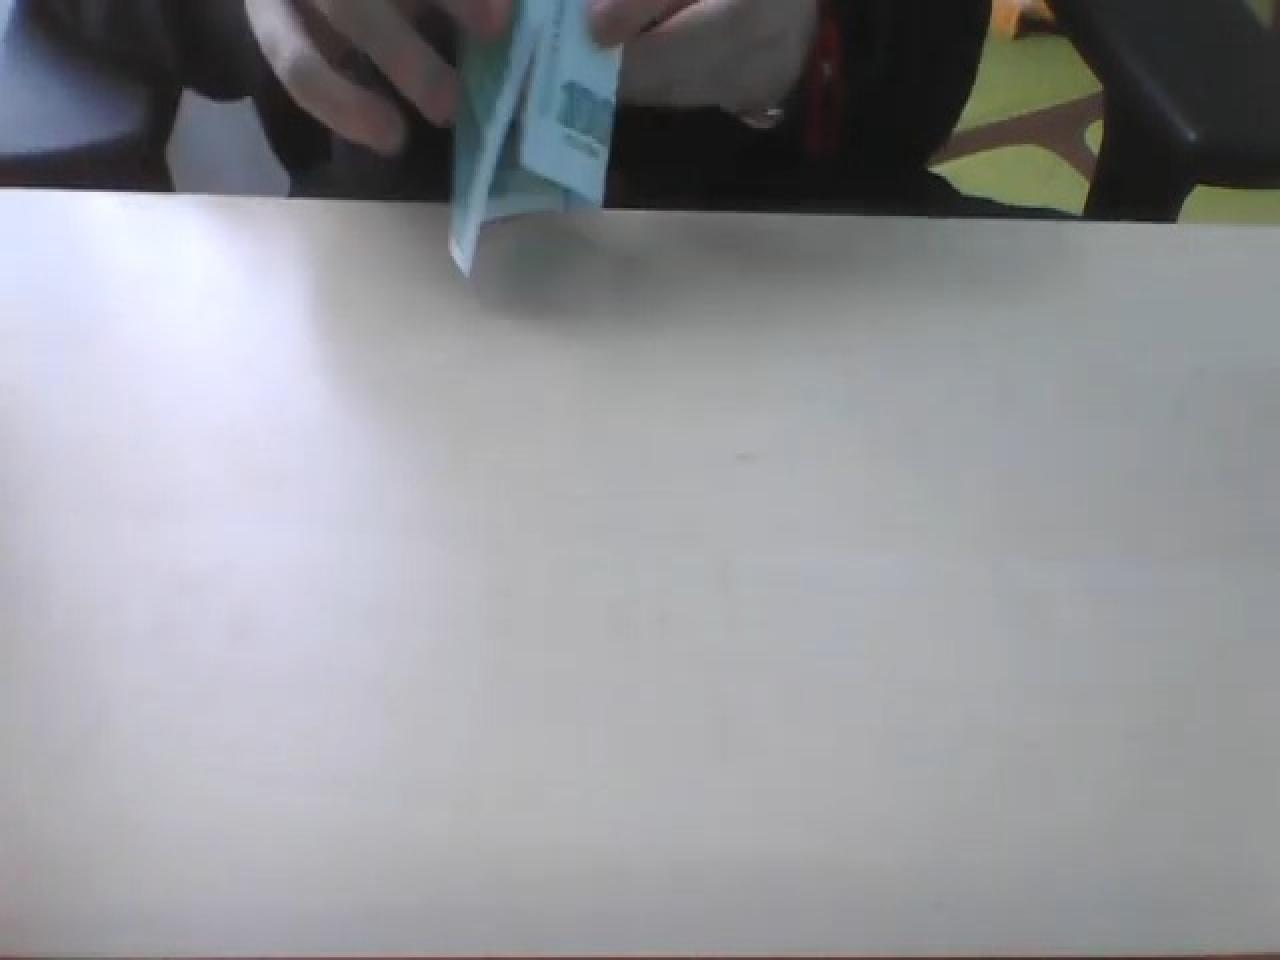100leva: (6, 0, 1274, 227)
